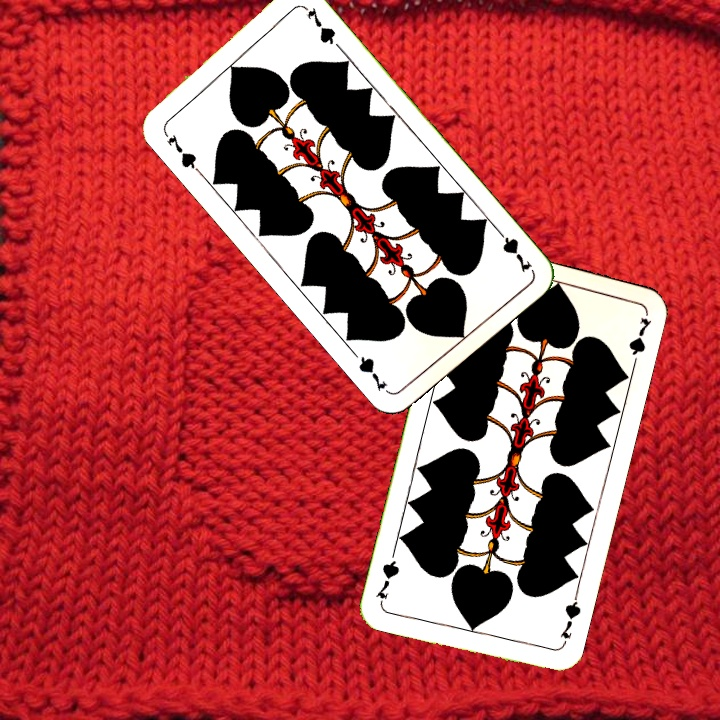G7: (490, 223, 535, 275), (159, 125, 202, 175), (555, 591, 584, 649)
